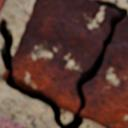brick: (0, 0, 6, 11)
broken_brick: (12, 0, 118, 113), (80, 16, 127, 127), (0, 115, 27, 127)
crack: (0, 0, 127, 127)
